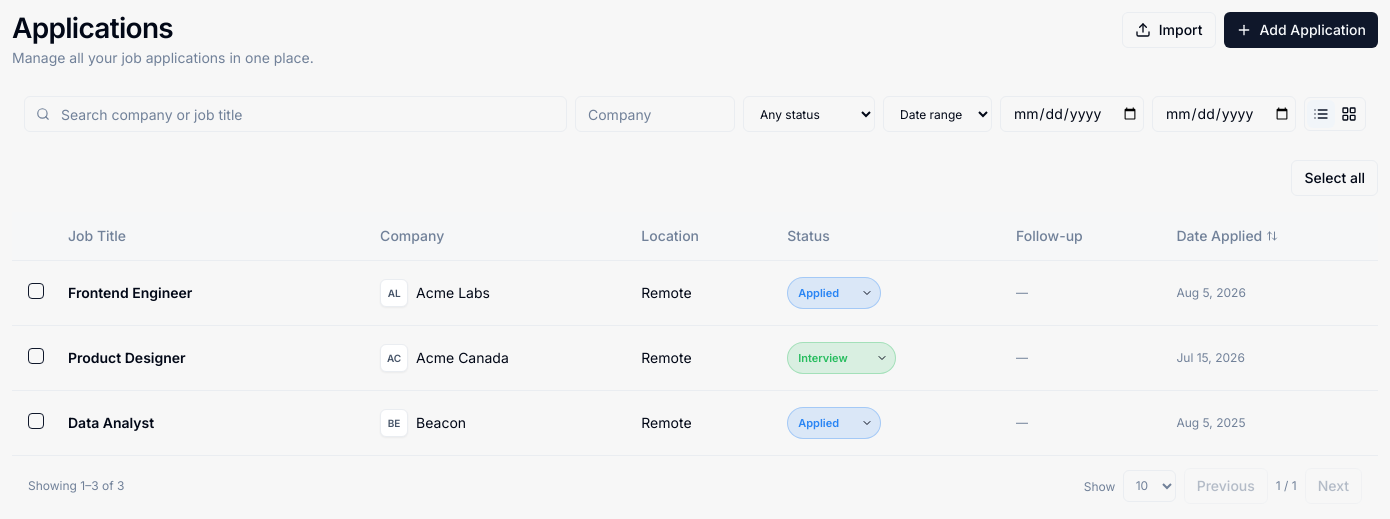
Scenario: ApplicationsList › combines partial company and current-status filters
Type "acme" into the field named "Company name" at point(655, 114), box left=575, top=96, right=735, bottom=132
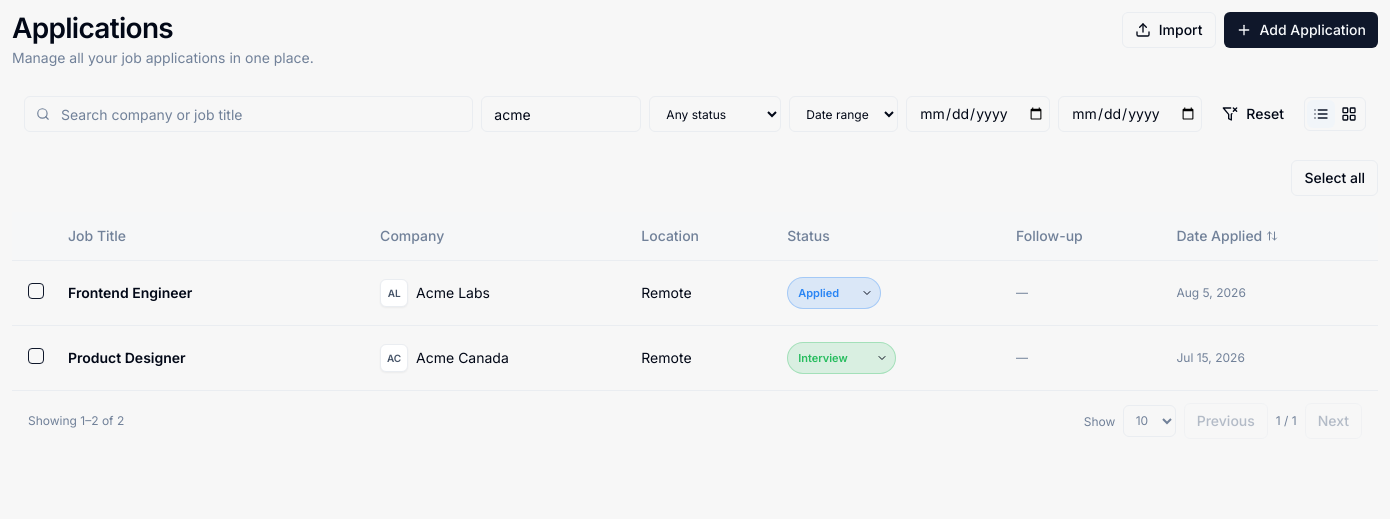
Select "Interview" in the dropdown named "Status" at point(715, 114), box left=649, top=96, right=781, bottom=132
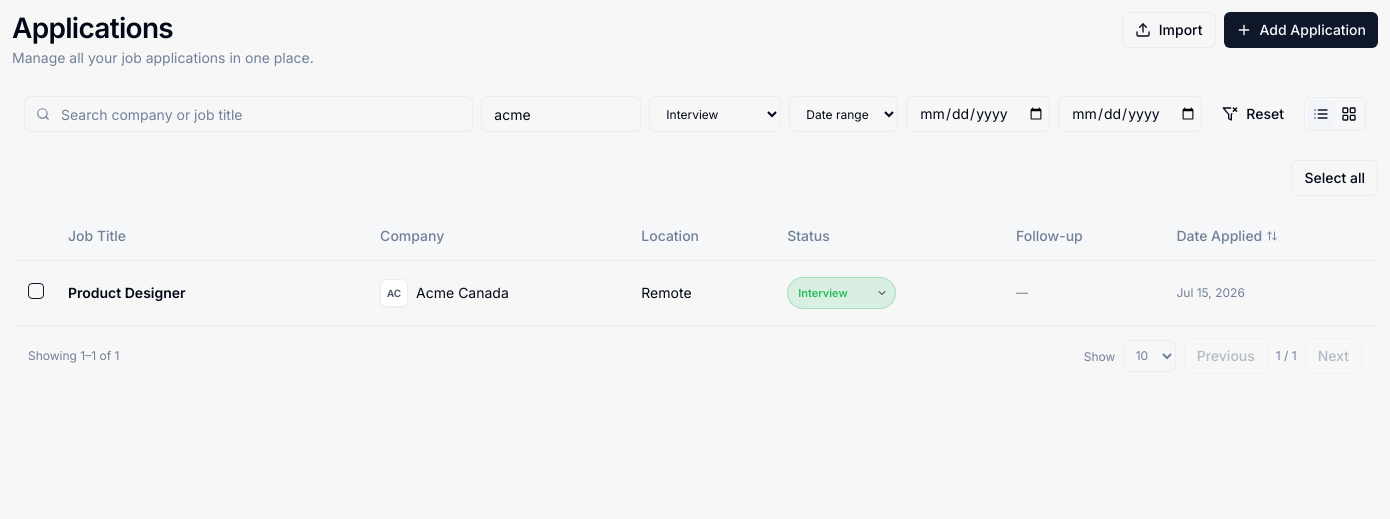
Check: the text "Product Designer" is shown, box left=52, top=260, right=364, bottom=324
Check: the text "Frontend Engineer" is gone
